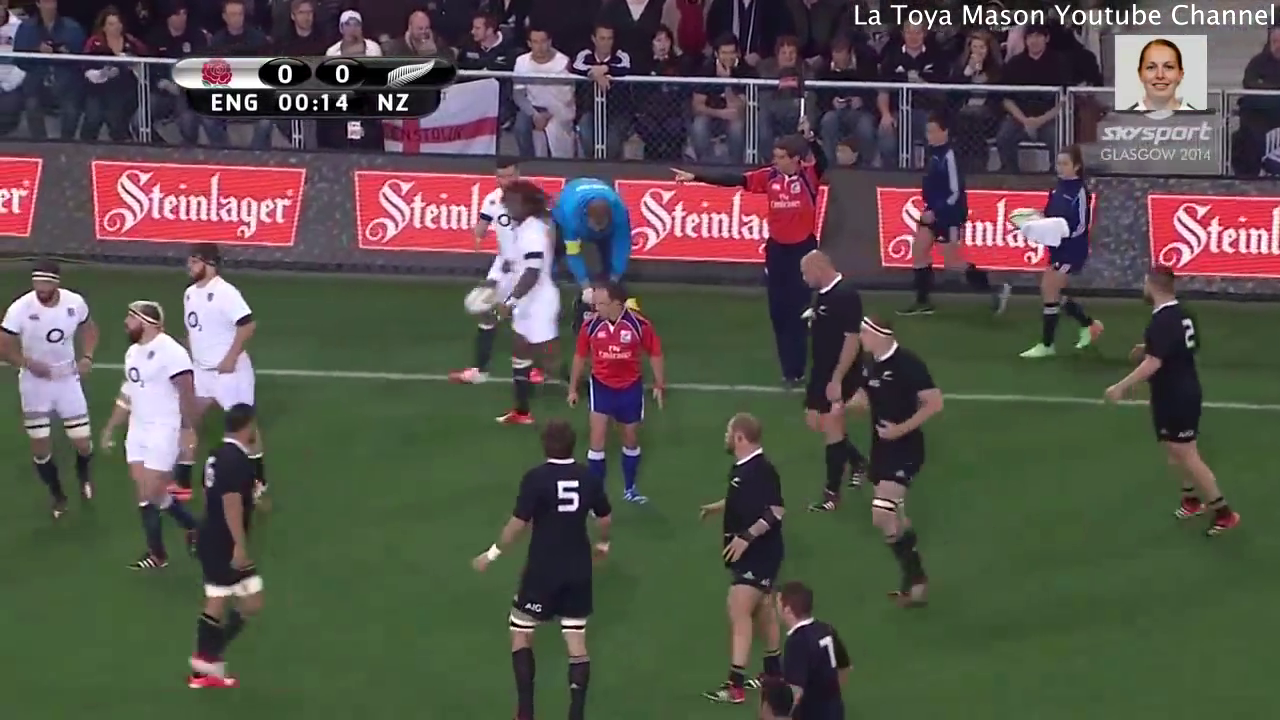ball: (453, 264, 508, 332)
player: (660, 116, 842, 396), (465, 408, 621, 720), (1098, 255, 1256, 552), (165, 381, 306, 699), (822, 308, 965, 617), (81, 288, 205, 581), (172, 234, 284, 505), (1, 250, 105, 537), (694, 407, 792, 707), (557, 275, 672, 530), (479, 180, 591, 430), (782, 245, 877, 507), (444, 143, 528, 423), (757, 571, 859, 720), (550, 174, 647, 301), (746, 668, 800, 720)
